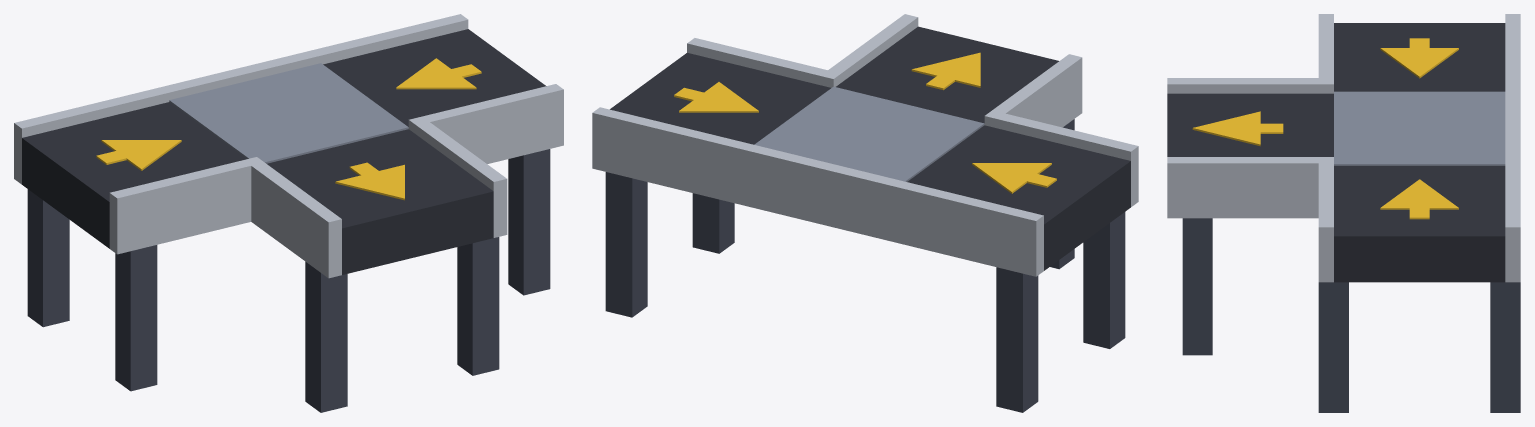
File: conveyor-tee.glb
The picture shows the model from 3 angles, left to right: view 1: azimuth 30°, elevation 25°; view 2: azimuth 150°, elevation 25°; view 3: azimuth 270°, elevation 25°; orthographic projection. The views are drawn at different scales.
Parts seen in each view (by area): view 1: conveyor-tee; view 2: conveyor-tee; view 3: conveyor-tee.
Part boxes in pixels (x1=…): conveyor-tee: x1=14, y1=14, x2=563, y2=412; conveyor-tee: x1=592, y1=14, x2=1138, y2=412; conveyor-tee: x1=1167, y1=14, x2=1520, y2=412.
Bounding box in the file's own units: 1 × 0.42 × 0.7.
1 material, 1 textured.
